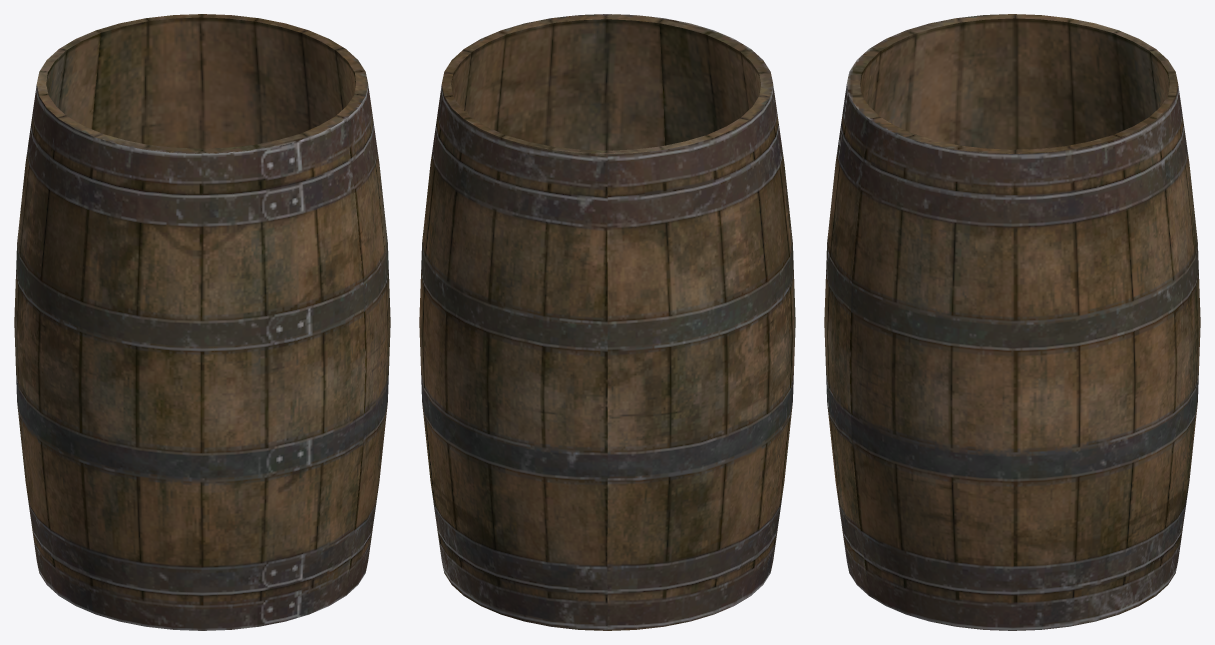
The model's file is barrel4.obj.
3 views of the same model, side by side, from view 1: azimuth 30°, elevation 25°; view 2: azimuth 150°, elevation 25°; view 3: azimuth 270°, elevation 25° (orthographic).
Visible parts, largest first — view 1: mesh0; view 2: mesh0; view 3: mesh0.
Part boxes in pixels (bbox=[...]): mesh0: bbox=[14, 14, 390, 630]; mesh0: bbox=[419, 14, 795, 630]; mesh0: bbox=[824, 14, 1200, 630].
Bounding box in the file's own units: 0.2519 × 0.3522 × 0.2519.
